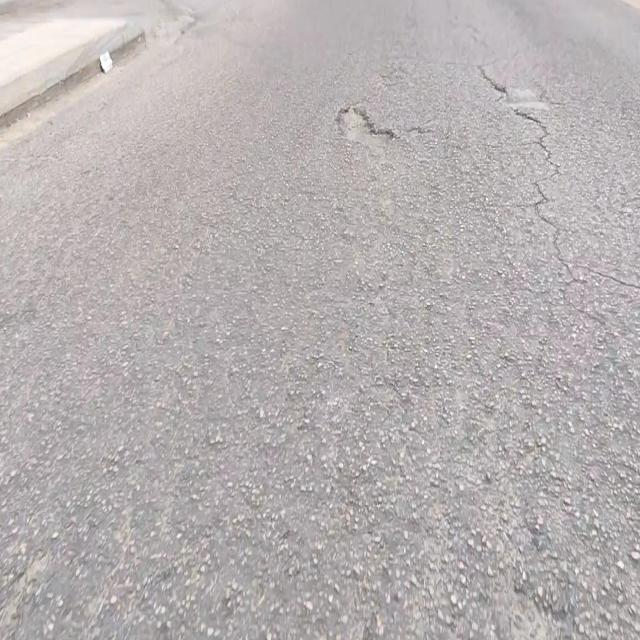Potholes: (336, 107, 393, 139)
